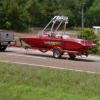Boat: (18, 15, 100, 61)
